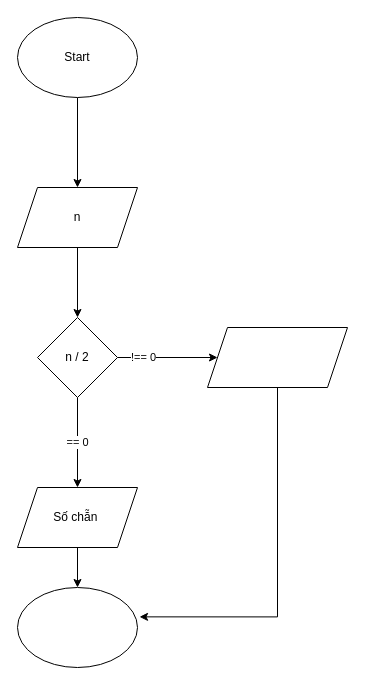
Image size: 365x685. Some labels were removed from this diagram. The centre of each missing label's shape, as x and y in pixels:
"End" belongs at point 77,627.
"Không phải số chẵn" belongs at point 277,357.
